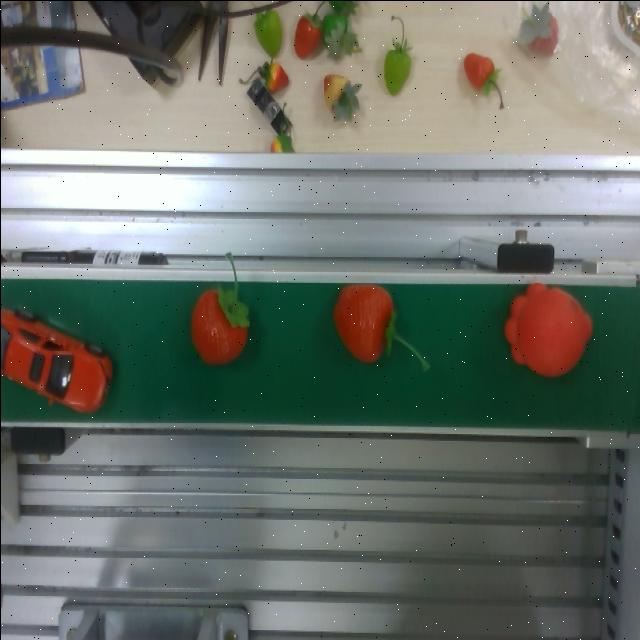Large Ripe Strawberry: (324, 280, 406, 376), (182, 280, 252, 370)
None - Strawberry: (0, 312, 118, 428), (496, 287, 590, 381)
conveyor: (0, 264, 640, 443)
